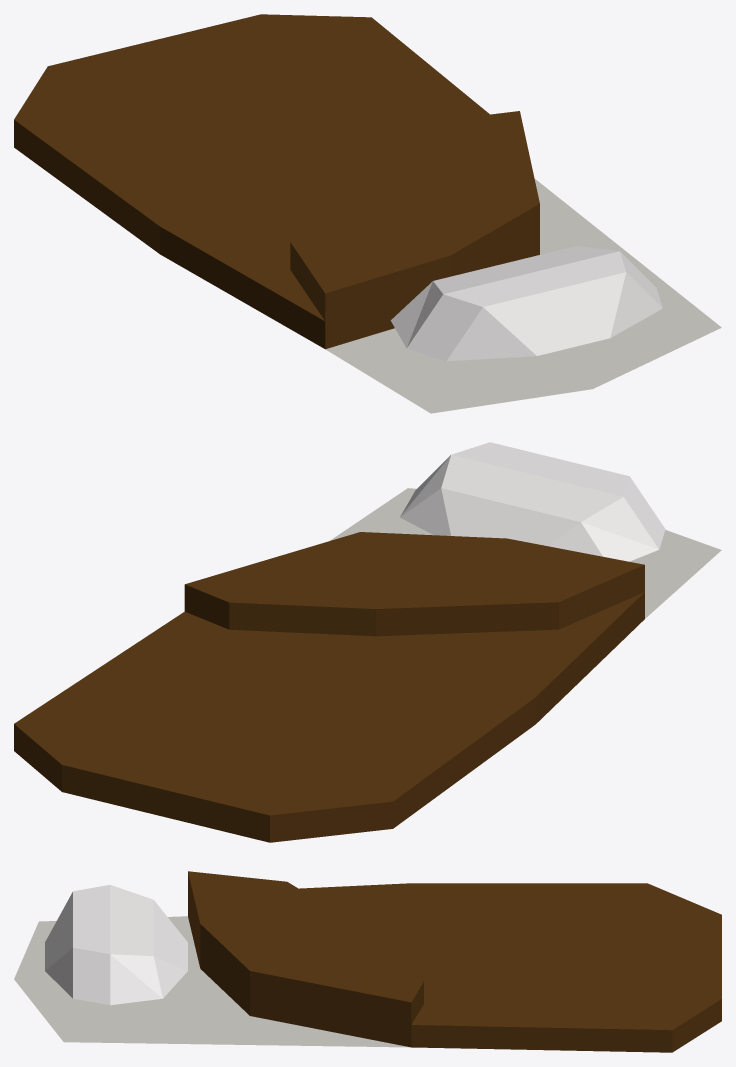
Rendered from obj_campsite_bed_0.obj.
The picture shows the model from 3 angles, top to bottom: view 1: azimuth 30°, elevation 25°; view 2: azimuth 150°, elevation 25°; view 3: azimuth 270°, elevation 25°; orthographic projection. The views are drawn at different scales.
Bounding box in the file's own units: 0.875 × 0.1641 × 1.78.
